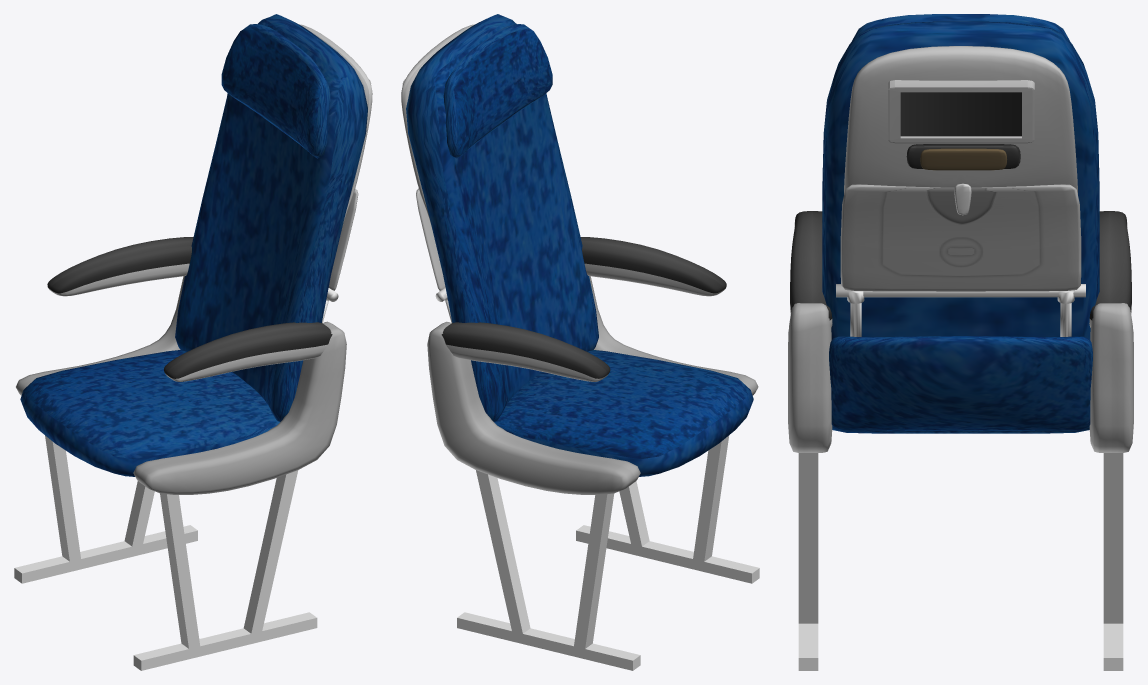
File: seat.fbx
3 views of the same model, side by side, from view 1: azimuth 30°, elevation 25°; view 2: azimuth 150°, elevation 25°; view 3: azimuth 270°, elevation 25° (orthographic). The views are drawn at different scales.
Visible parts, largest first — view 1: Cube.001, Cube, Cube.014, Cube.003, Cube.013, Cube.002, Cube.008, Cube.007; view 2: Cube.001, Cube, Cube.014, Cube.003, Cube.013, Cube.002, Cube.008, Cube.007; view 3: Cube.001, Cube.007, Cube.004, Cube.008, Cube.003, Cube.009, Cube.014, Cube.013, Cube.006, Cube.010, Cube.002, Cube.012 (+1 smaller).
Boxes of the visible parts, <box> form: Cube.001: <box>175,14,367,421</box>; Cube: <box>20,350,279,476</box>; Cube.014: <box>14,435,317,670</box>; Cube.003: <box>16,276,346,494</box>; Cube.013: <box>47,237,332,381</box>; Cube.002: <box>221,24,330,158</box>; Cube.008: <box>299,24,372,224</box>; Cube.007: <box>328,188,358,290</box>; Cube.001: <box>406,14,598,421</box>; Cube: <box>494,350,753,476</box>; Cube.014: <box>457,435,759,670</box>; Cube.003: <box>427,276,758,494</box>; Cube.013: <box>441,237,726,381</box>; Cube.002: <box>443,24,552,158</box>; Cube.008: <box>401,24,474,224</box>; Cube.007: <box>416,188,445,290</box>; Cube.001: <box>822,21,1099,339</box>; Cube.007: <box>840,184,1081,291</box>; Cube.004: <box>829,336,1092,430</box>; Cube.008: <box>844,46,1077,194</box>; Cube.003: <box>788,303,1133,452</box>; Cube.009: <box>888,80,1034,143</box>; Cube.014: <box>798,453,1123,670</box>; Cube.013: <box>790,211,1131,327</box>; Cube.006: <box>836,284,1085,336</box>; Cube.010: <box>920,148,1007,170</box>; Cube.002: <box>852,14,1069,40</box>; Cube.012: <box>906,144,1020,168</box>.
Size of the model in its own units: 307 by 538 by 247.
Materials: 3 (2 with a texture image).
